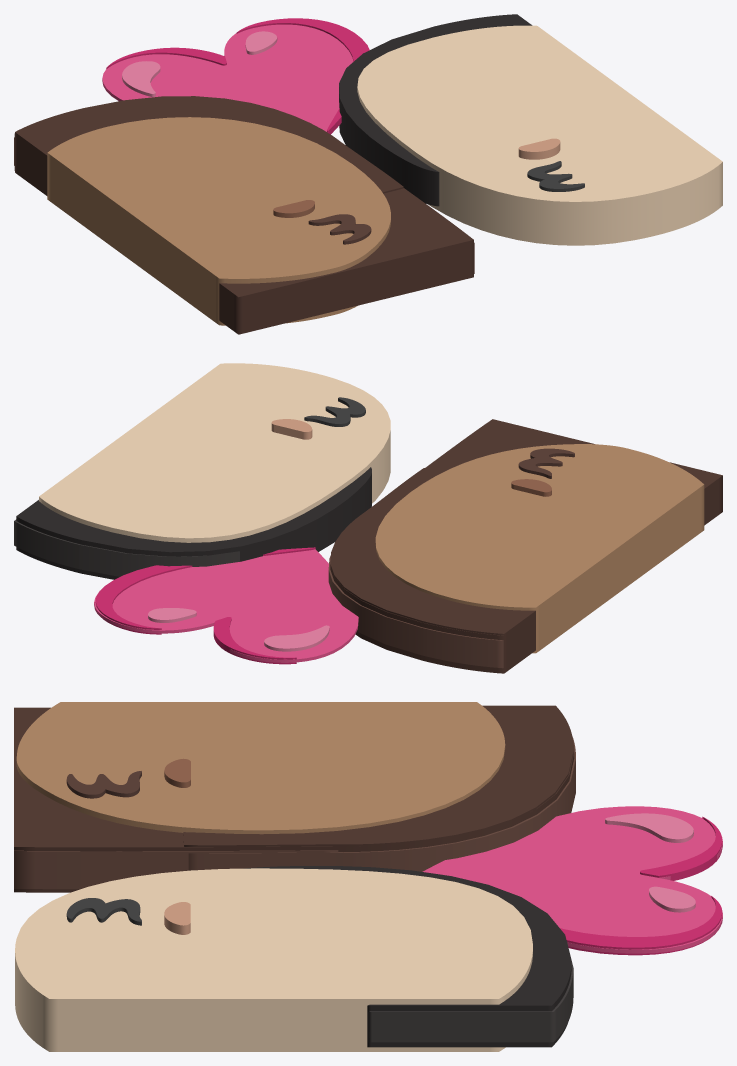
The model's file is emoji_u1f469_1f3fd_200d_2764_200d_1f48b_200d_1f468_1f3fb.glb.
3 views of the same model, one above another, from view 1: azimuth 30°, elevation 25°; view 2: azimuth 150°, elevation 25°; view 3: azimuth 270°, elevation 25° (orthographic). The views are drawn at different scales.
Parts seen in each view (by area): view 1: emoji_u1f469_1f3fd_200d_2764_200d_1f48b_200d_1f468_1f3fb; view 2: emoji_u1f469_1f3fd_200d_2764_200d_1f48b_200d_1f468_1f3fb; view 3: emoji_u1f469_1f3fd_200d_2764_200d_1f48b_200d_1f468_1f3fb.
Boxes of the visible parts, <box> form: emoji_u1f469_1f3fd_200d_2764_200d_1f48b_200d_1f468_1f3fb: <box>14,14,722,334</box>; emoji_u1f469_1f3fd_200d_2764_200d_1f48b_200d_1f468_1f3fb: <box>14,363,722,673</box>; emoji_u1f469_1f3fd_200d_2764_200d_1f48b_200d_1f468_1f3fb: <box>14,702,722,1051</box>.
Size of the model in its own units: 0.0336 by 0.0038 by 0.0339.
